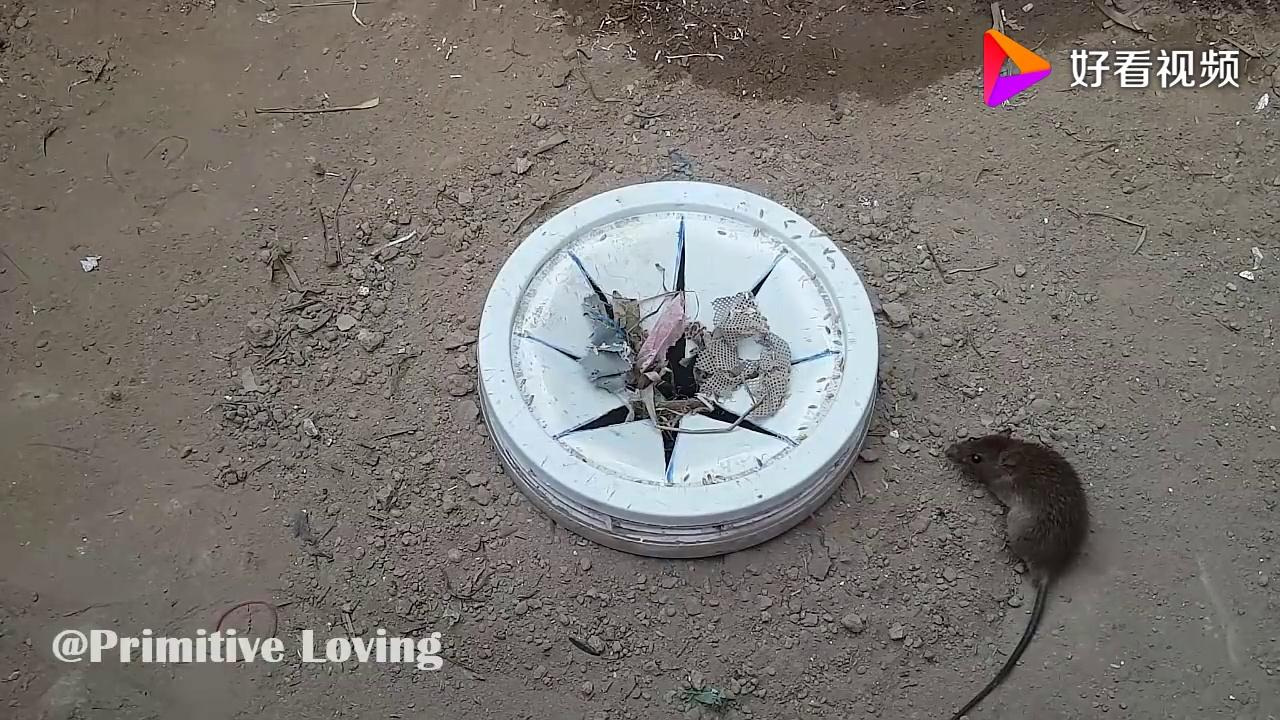rat: (936, 418, 1099, 630)
